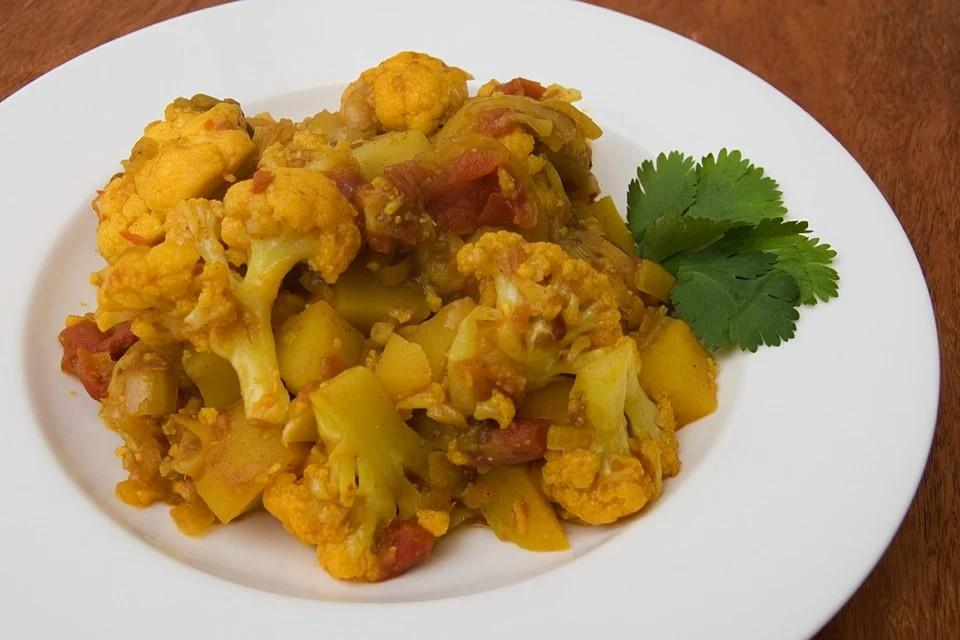AlooGobi: (58, 52, 718, 582)
